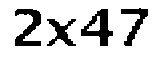2: (11, 5, 43, 50)
4: (78, 5, 114, 49)
7: (115, 5, 153, 48)
x: (46, 17, 78, 48)
